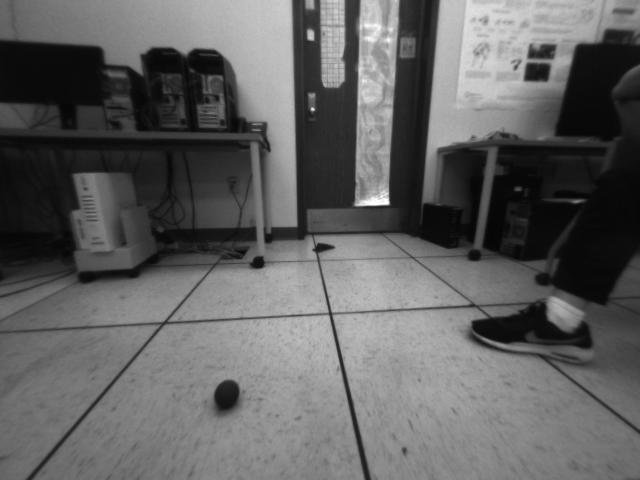dogtoy: (204, 371, 249, 418)
